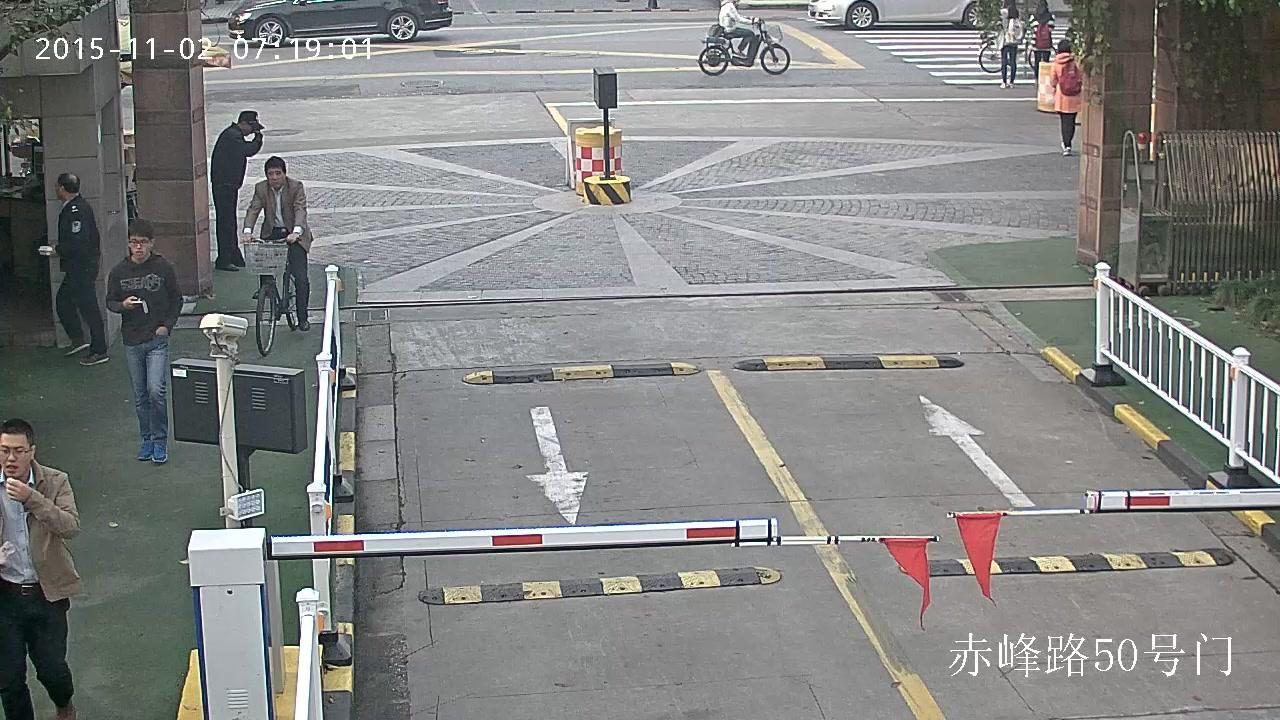face: (0, 433, 31, 476), (130, 236, 149, 259), (267, 167, 284, 187), (242, 124, 253, 135), (55, 180, 61, 197), (733, 0, 740, 2)
